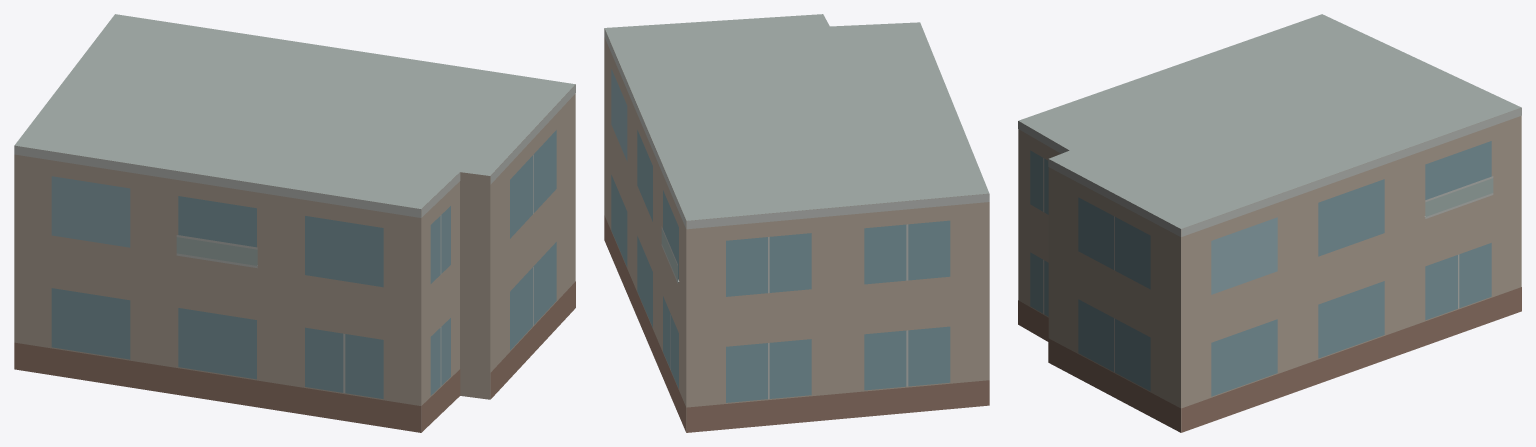
The model's file is survey-upis-32732942.glb.
3 renders of one model, left to right at view 1: azimuth 30°, elevation 25°; view 2: azimuth 150°, elevation 25°; view 3: azimuth 270°, elevation 25°, orthographic. The views are drawn at different scales.
Visible parts, largest first — view 1: survey-upis-32732942.tmp; view 2: survey-upis-32732942.tmp; view 3: survey-upis-32732942.tmp.
Part boxes in pixels (x1,y1,x2,y2): survey-upis-32732942.tmp: (14, 14, 575, 432); survey-upis-32732942.tmp: (604, 14, 989, 432); survey-upis-32732942.tmp: (1018, 14, 1521, 432).
Bounding box in the file's own units: 13.82 × 6.1 × 13.67.
